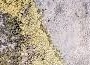Corrosion: (1, 1, 66, 65)
